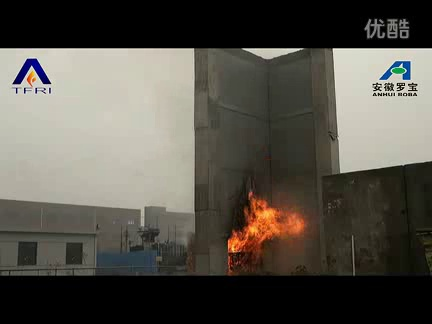fire: (218, 186, 307, 270)
